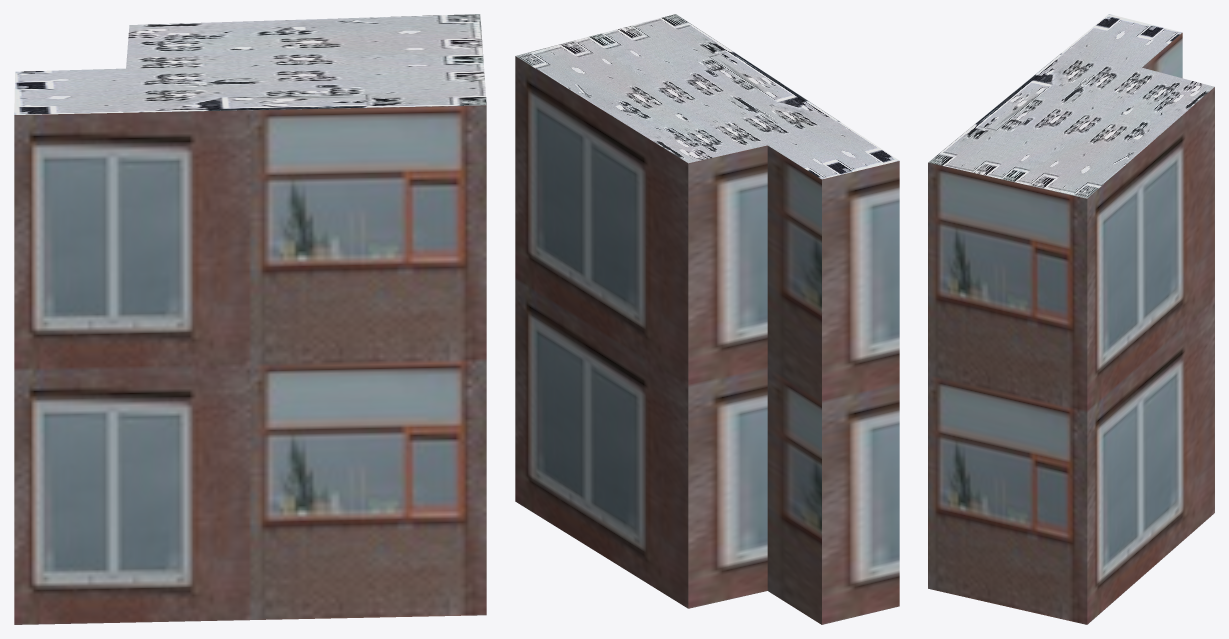
File: ResTex__1054.fbx
The picture shows the model from 3 angles, left to right: view 1: azimuth 30°, elevation 25°; view 2: azimuth 150°, elevation 25°; view 3: azimuth 270°, elevation 25°; orthographic projection. The views are drawn at different scales.
Parts seen in each view (by area): view 1: CityEngineMaterial_19_m, CityEngineMaterial_15_m; view 2: CityEngineMaterial_19_m, CityEngineMaterial_15_m; view 3: CityEngineMaterial_19_m, CityEngineMaterial_15_m.
Part boxes in pixels (x1=…): CityEngineMaterial_19_m: x1=14, y1=105, x2=486, y2=624; CityEngineMaterial_15_m: x1=14, y1=14, x2=486, y2=114; CityEngineMaterial_19_m: x1=515, y1=56, x2=899, y2=624; CityEngineMaterial_15_m: x1=516, y1=14, x2=899, y2=179; CityEngineMaterial_19_m: x1=928, y1=33, x2=1214, y2=624; CityEngineMaterial_15_m: x1=928, y1=14, x2=1214, y2=198.
Bounding box in the file's own units: 5.58 × 6 × 3.66.
2 materials, 2 textured.
